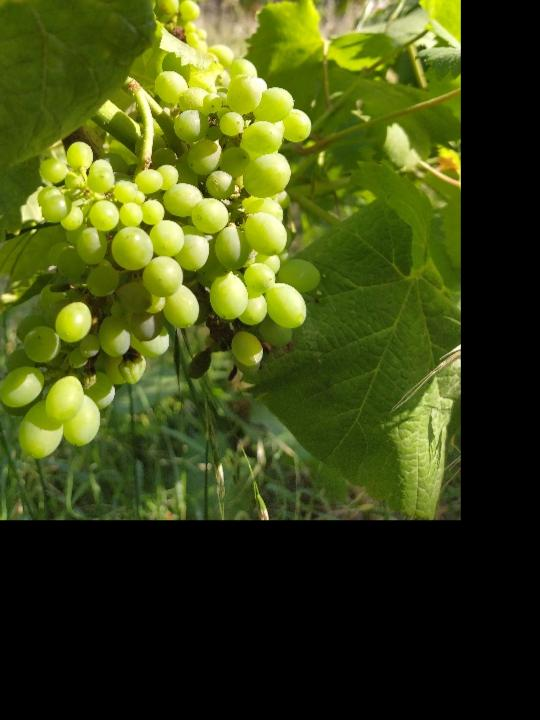grape: (0, 39, 325, 465)
